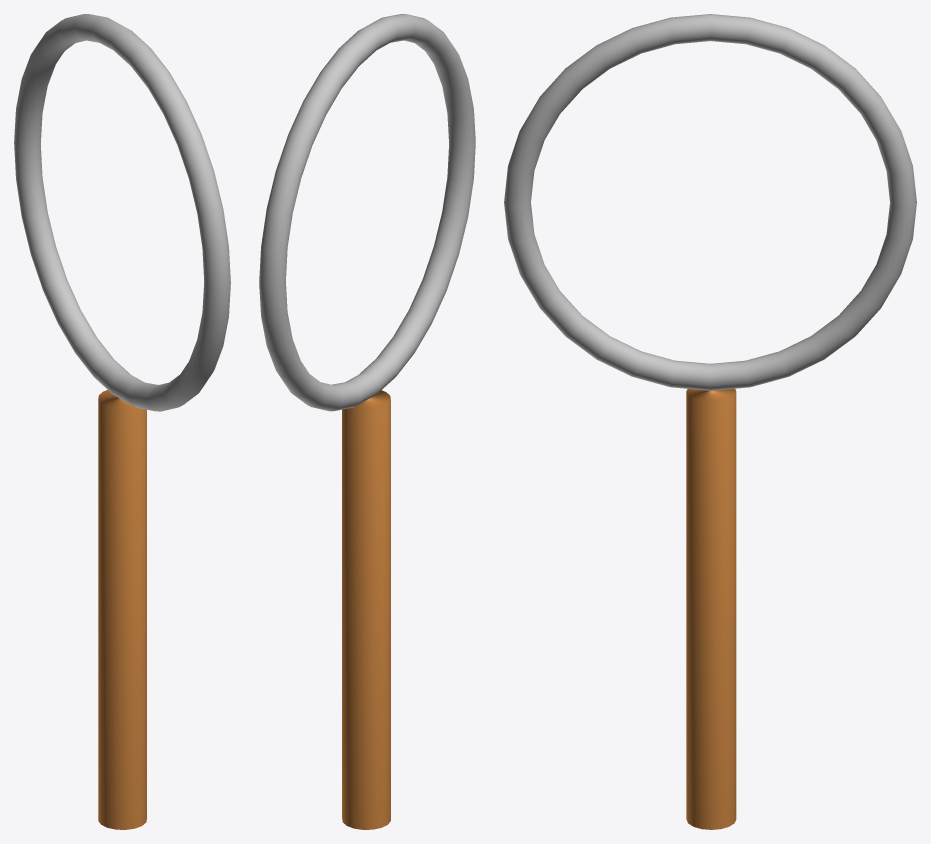
The model's file is Prise Grappin (métal) 1.fbx.
3 views of the same model, side by side, from view 1: azimuth 30°, elevation 25°; view 2: azimuth 150°, elevation 25°; view 3: azimuth 270°, elevation 25° (orthographic).
Visible parts, largest first — view 1: Cercle fer, Bâton; view 2: Cercle fer, Bâton; view 3: Cercle fer, Bâton.
Part boxes in pixels (<box>): Cercle fer: <box>14,14,230,411</box>; Bâton: <box>98,390,146,829</box>; Cercle fer: <box>259,14,475,411</box>; Bâton: <box>342,390,390,829</box>; Cercle fer: <box>504,14,916,390</box>; Bâton: <box>686,388,736,829</box>.
Size of the model in its own units: 8.35 by 148 by 68.98.
